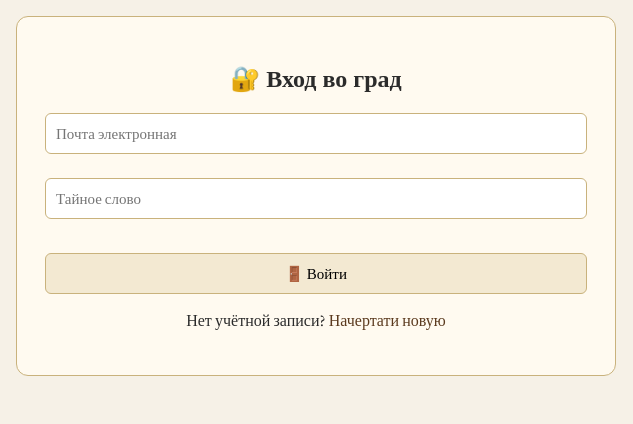
Test: LoginPage › ошибка логина отображается пользователю
Type "wrong@test.com" into the field with placeholder "Почта электронная" at (316, 133), box [45, 113, 587, 154]
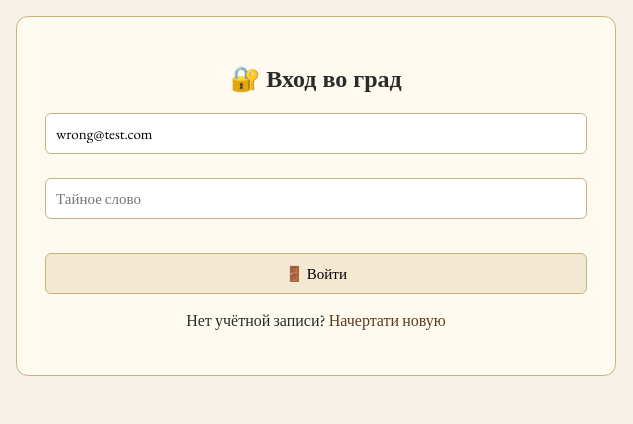
Type "wrongpass" into the password field with placeholder "Тайное слово" at (316, 198), box [45, 178, 587, 219]
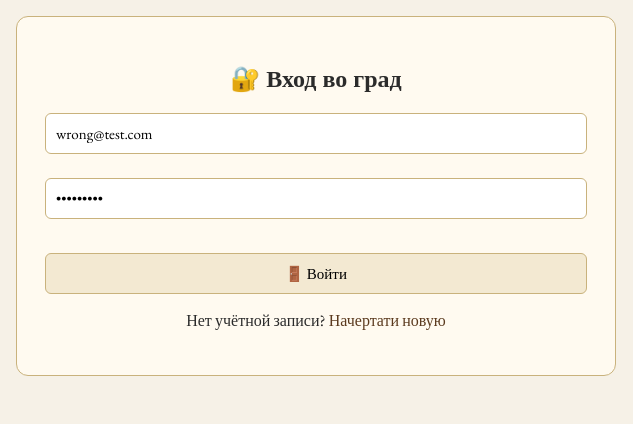
Click the button "🚪 Войти" at (316, 273), box [45, 253, 587, 294]
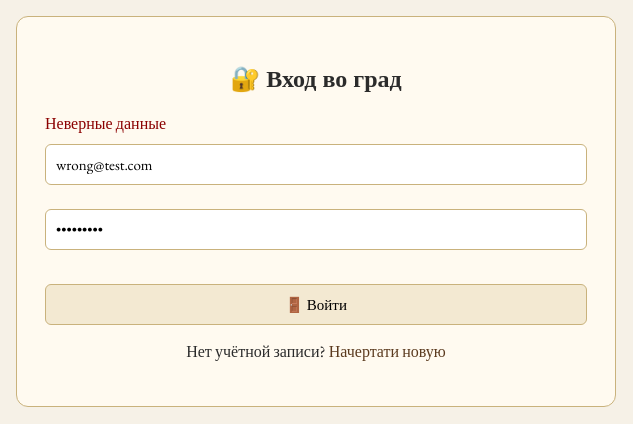
Now the text "Неверные данные" is shown, box [45, 113, 166, 134]
